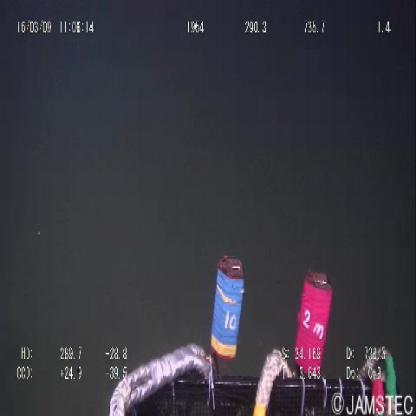Rov: (108, 250, 401, 414)
